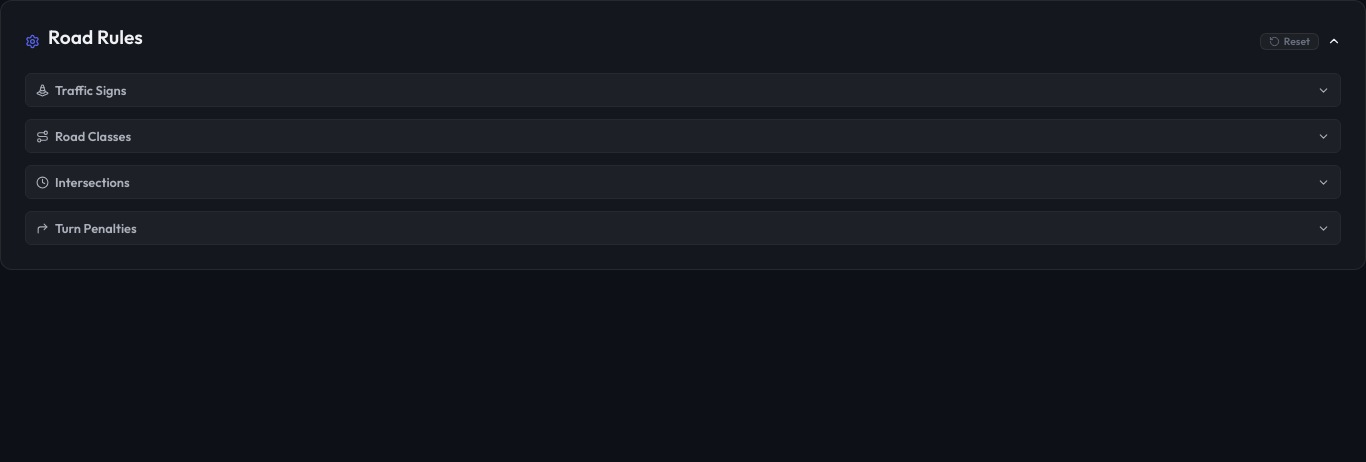
Test: RulesConfigPanel › reveals traffic signs lists when expanded
Expected: the text "Pedestrian Zone" is not shown
Click the button "Traffic Signs". click: {"x": 91, "y": 90}
box: top-left (26, 74), bottom-right (1340, 106)
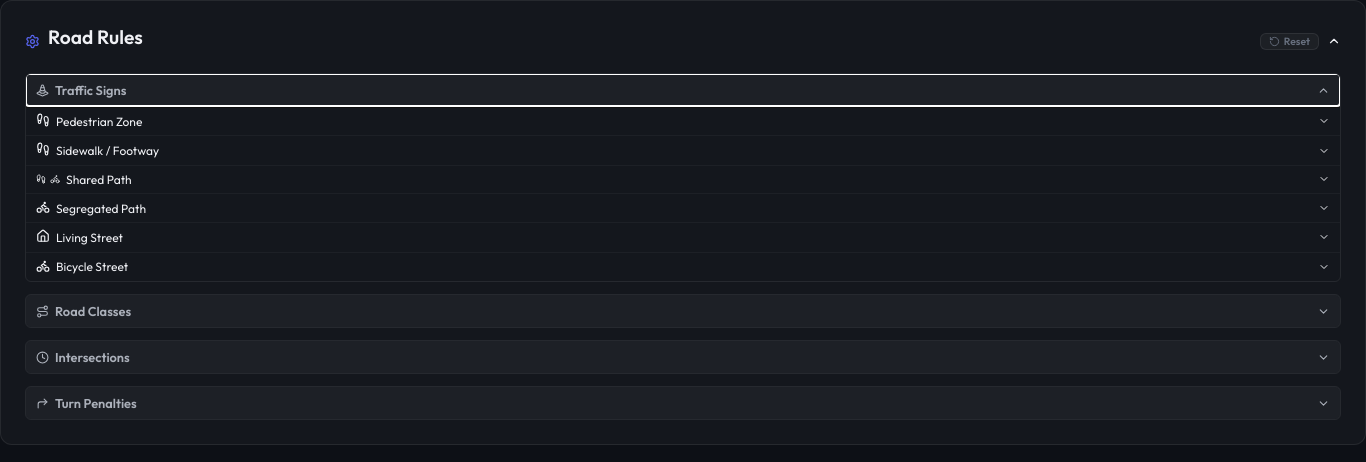
Result: the text "Pedestrian Zone" is shown at top-left (56, 114), bottom-right (142, 129)
Result: the text "Shared Path" is shown at top-left (66, 172), bottom-right (132, 187)
Result: the text "Bicycle Street" is shown at top-left (56, 259), bottom-right (128, 274)
